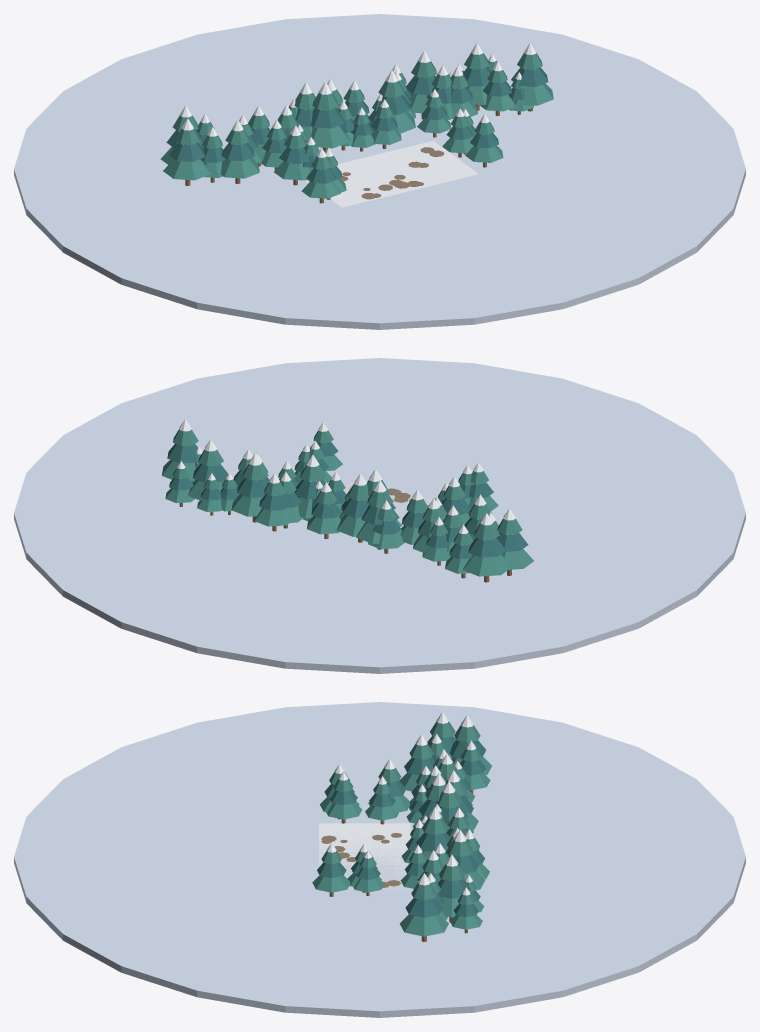
The model's file is forest_glade.glb.
3 views of the same model, one above another, from view 1: azimuth 30°, elevation 25°; view 2: azimuth 150°, elevation 25°; view 3: azimuth 270°, elevation 25° (orthographic).
Visible parts, largest first — view 1: ground, glade, back0_pine0, back13_pine0, back4_pine0, back33_pine0, back13_pine1, back0_pine1; view 2: ground, back1_pine0, back1_pine1, back24_pine0; view 3: ground, glade, back33_pine0, back33_pine1.
Part boxes in pixels (x1,y1,x2,y2): ground: (14,14,745,329); glade: (305,140,478,207); back0_pine0: (163,159,210,180); back13_pine0: (310,125,350,148); back4_pine0: (220,158,259,178); back33_pine0: (512,83,553,105); back13_pine1: (311,108,344,128); back0_pine1: (169,142,205,161); ground: (14,358,745,673); back1_pine0: (463,554,508,576); back1_pine1: (468,538,505,557); back24_pine0: (231,494,262,516); ground: (14,702,745,1017); glade: (319,823,410,890); back33_pine0: (399,914,448,936); back33_pine1: (405,898,442,917).
Size of the model in its own units: 60 by 7.08 by 60.
